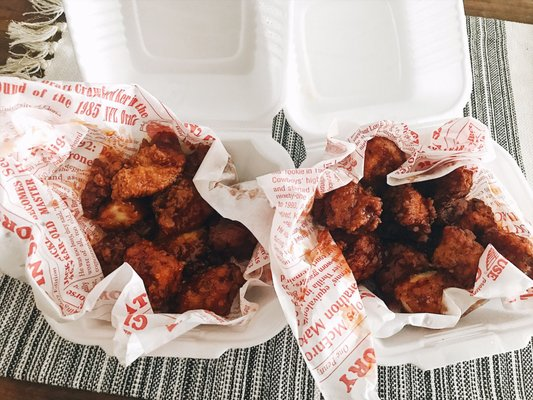curry: (311, 118, 533, 316)
